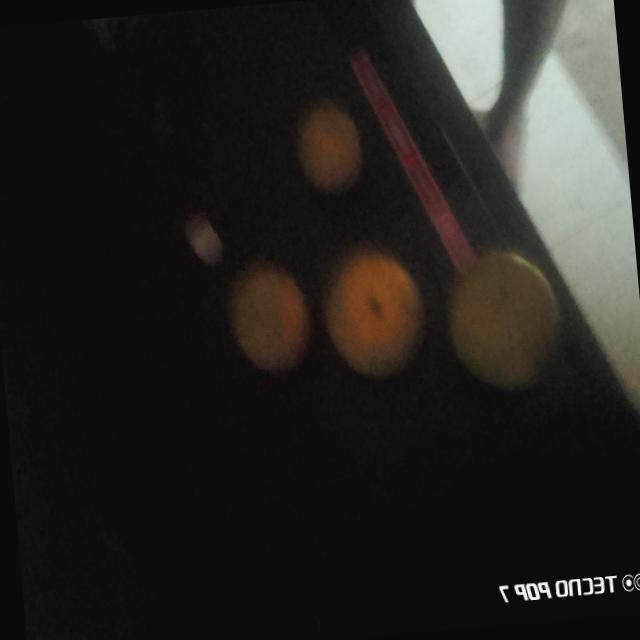agrume: (440, 238, 568, 386), (326, 256, 426, 376), (224, 256, 320, 364), (302, 109, 366, 186)
